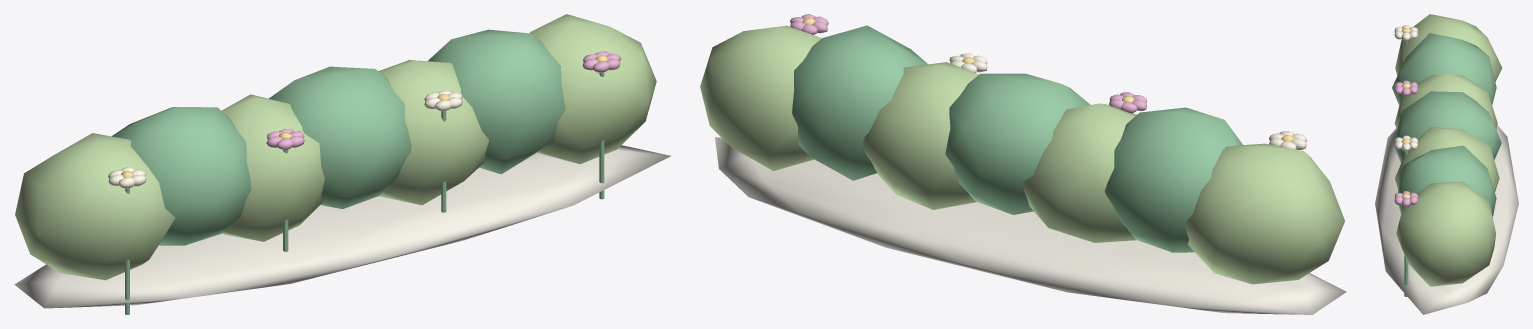
Rendered from lagoon_park_hedge.glb.
3 renders of one model, left to right at view 1: azimuth 30°, elevation 25°; view 2: azimuth 150°, elevation 25°; view 3: azimuth 270°, elevation 25°, orthographic. The views are drawn at different scales.
Visible parts, largest first — view 1: lagoon_park_hedge.001; view 2: lagoon_park_hedge.001; view 3: lagoon_park_hedge.001.
Part boxes in pixels (box(x1,y1,x2,y2)): lagoon_park_hedge.001: box(14, 14, 670, 314); lagoon_park_hedge.001: box(700, 14, 1346, 314); lagoon_park_hedge.001: box(1375, 14, 1518, 314).
Bounding box in the file's own units: 7.16 × 1.85 × 1.98.
